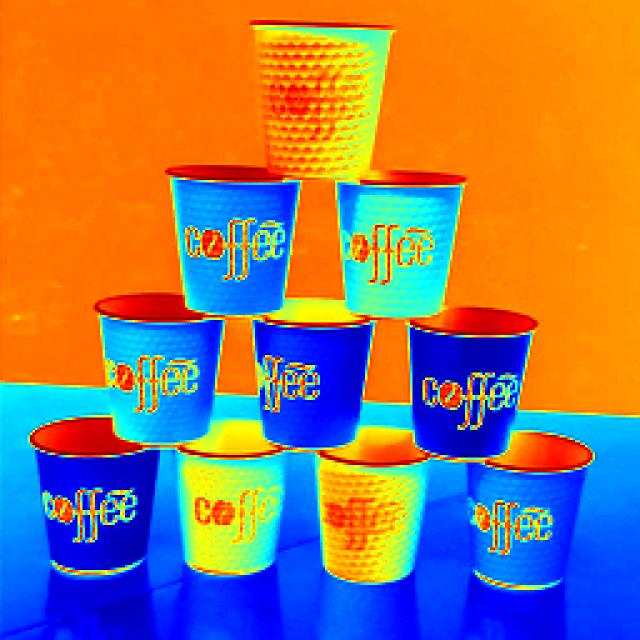Paper Cups: (14, 397, 165, 582), (130, 152, 292, 307), (321, 155, 451, 320), (385, 316, 522, 472), (473, 433, 594, 609), (240, 292, 368, 449), (250, 15, 372, 176), (307, 407, 423, 575), (102, 283, 210, 439), (176, 423, 280, 573)
